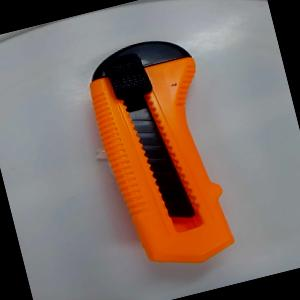estilete: (78, 30, 242, 278)
